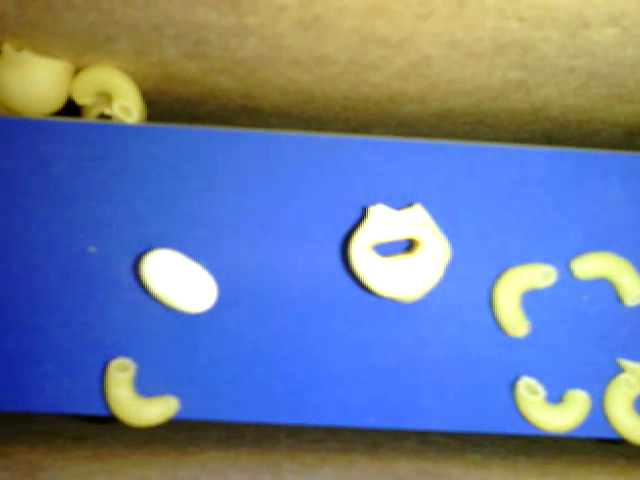elbow: (103, 357, 179, 426), (492, 264, 557, 335), (514, 375, 591, 433), (69, 64, 142, 121), (569, 252, 639, 306), (602, 373, 639, 441)
penne: (617, 360, 639, 383)
shell: (1, 44, 72, 116), (83, 93, 145, 125)
tortellini: (347, 201, 451, 303)
